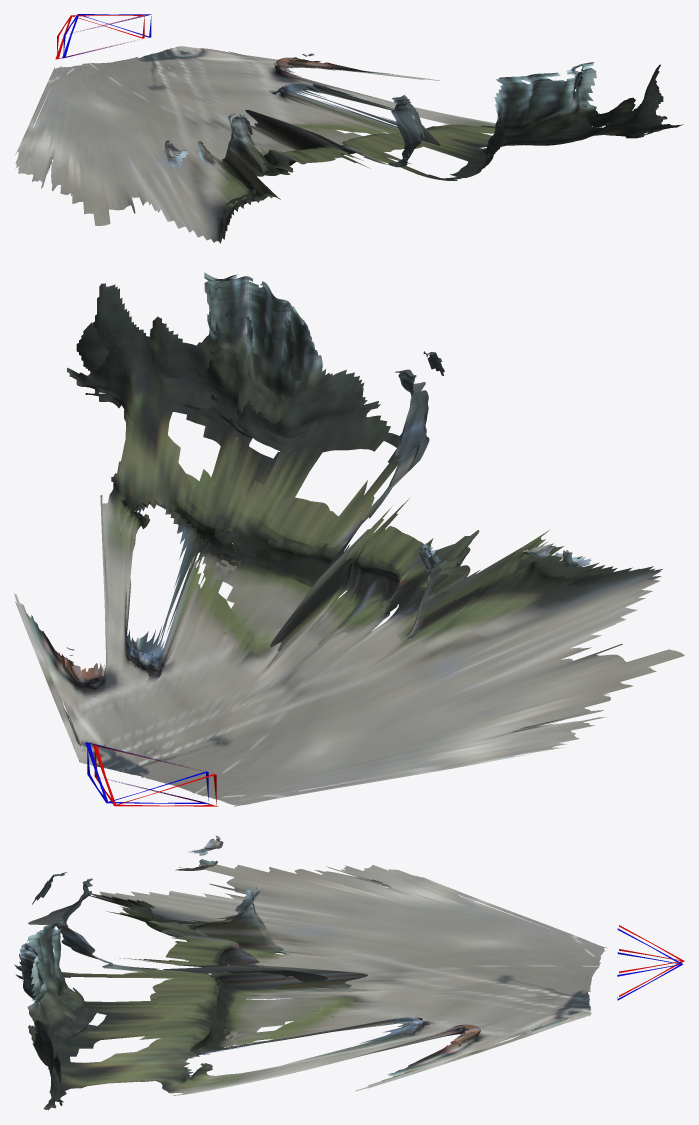
The picture shows the model from 3 angles, top to bottom: view 1: azimuth 30°, elevation 25°; view 2: azimuth 150°, elevation 25°; view 3: azimuth 270°, elevation 25°; orthographic projection. The views are drawn at different scales.
Parts seen in each view (by area): view 1: world; view 2: world; view 3: world.
Part boxes in pixels (left/top/right/bottom): world: left=15, top=14, right=683, bottom=243; world: left=14, top=272, right=684, bottom=806; world: left=14, top=836, right=684, bottom=1110.
Size of the model in its own units: 1.18 by 0.2872 by 1.2.
